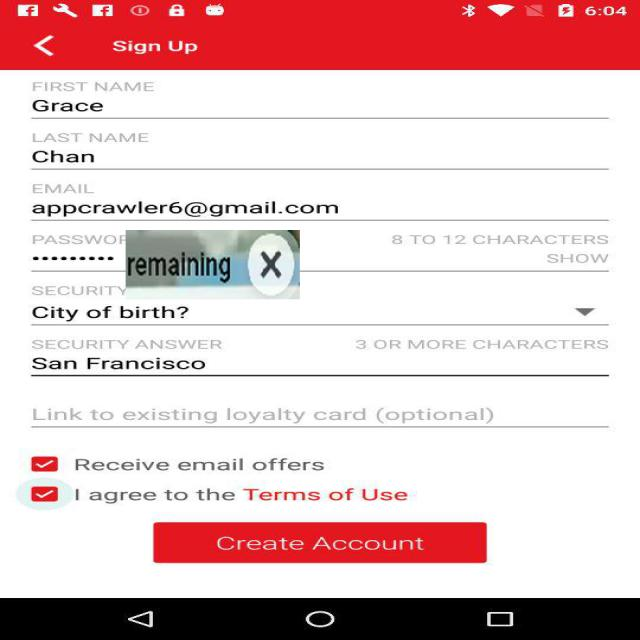misdirection: (126, 230, 300, 299)
